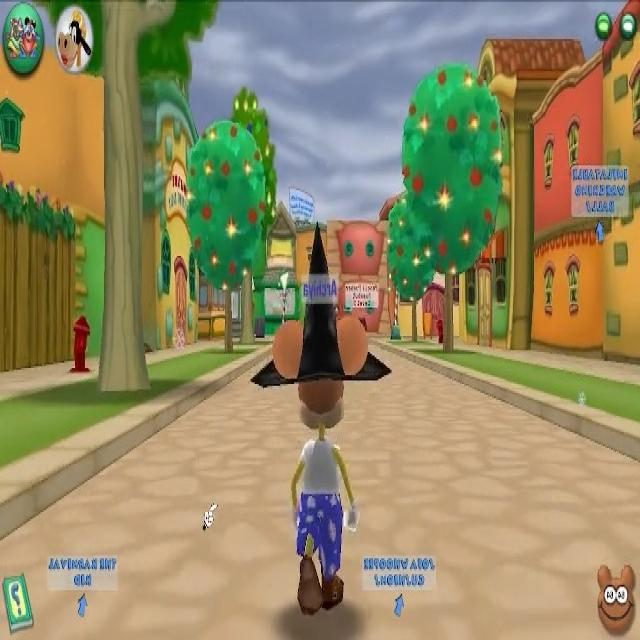pencilpusher: (346, 283, 378, 349)
